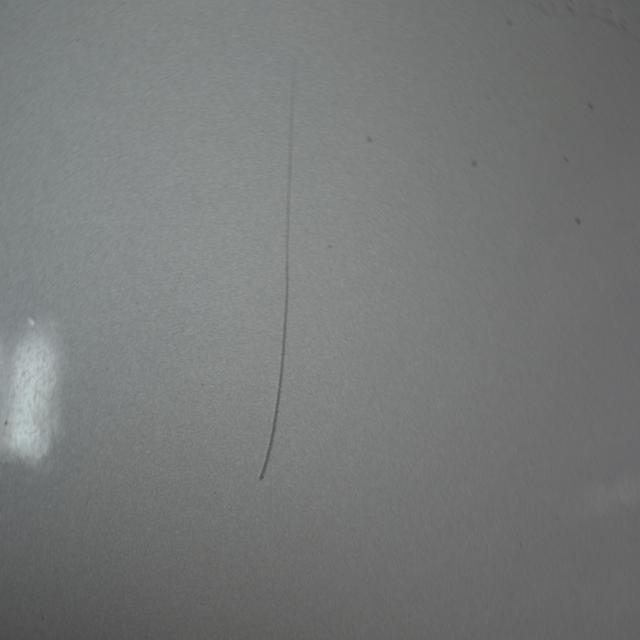dirt: (560, 149, 574, 167), (582, 96, 596, 112), (571, 211, 582, 228), (326, 236, 336, 254), (366, 127, 375, 145), (470, 153, 478, 169), (506, 16, 515, 29)
scratch: (256, 54, 301, 489)
